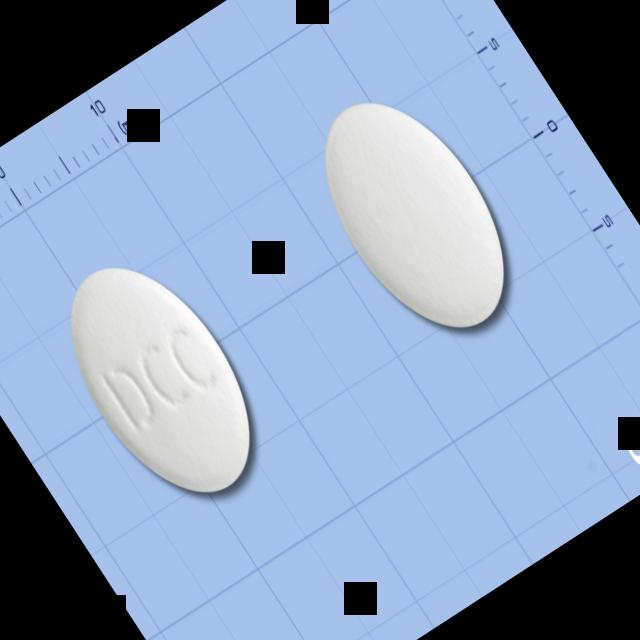Ciproxin -250mg: (29, 229, 294, 529)
